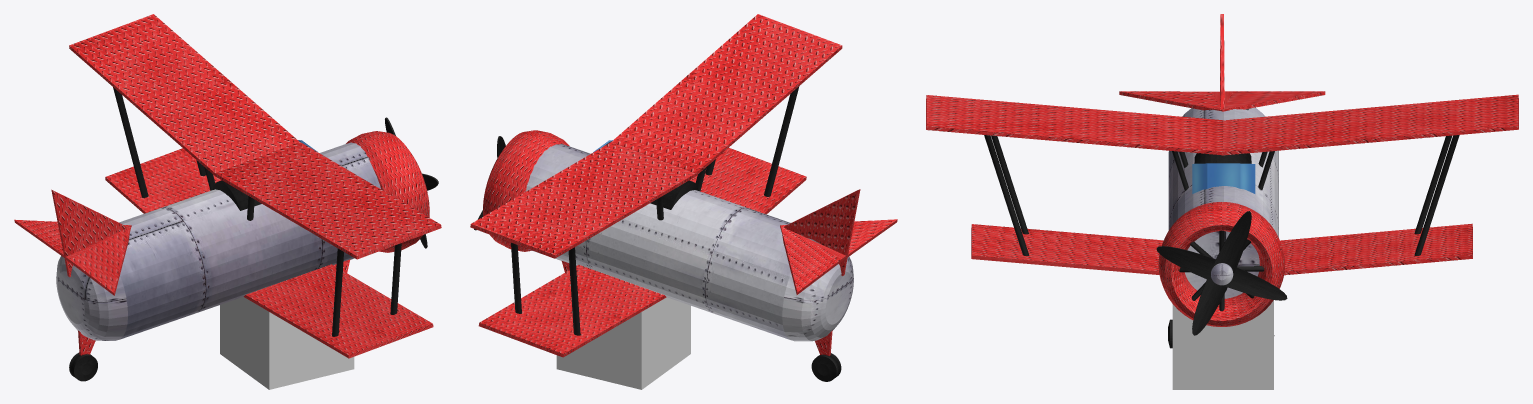
File: Airplane.glb
3 views of the same model, side by side, from view 1: azimuth 30°, elevation 25°; view 2: azimuth 150°, elevation 25°; view 3: azimuth 270°, elevation 25° (orthographic). The views are drawn at different scales.
Parts seen in each view (by area): view 1: Cylinder.006, Cube.007, Cube.004, Cube.006, Cube, Cube.005, Torus, Cube.011, Cube.013, Cube.014, Cylinder.011, Cylinder.013 (+3 smaller); view 2: Cylinder.006, Cube.004, Cube.007, Cube.005, Cube, Cube.006, Torus, Cube.011, Cube.014, Cube.013, Cylinder.013, Cylinder.011 (+3 smaller); view 3: Cube.004, Cube.007, Cube, Torus, Cube.005, Cube.006, Cylinder.006, Cylinder.022, Cylinder.023, Cube.013, Cube.014, Cylinder.012 (+5 smaller).
Boxes of the visible parts, bbox=[...] form: Cylinder.006: bbox=[56, 142, 380, 340]; Cube.007: bbox=[69, 14, 299, 176]; Cube.004: bbox=[215, 142, 441, 259]; Cube.006: bbox=[243, 264, 433, 358]; Cube: bbox=[220, 297, 354, 389]; Cube.005: bbox=[105, 148, 221, 213]; Torus: bbox=[346, 131, 429, 252]; Cube.011: bbox=[51, 189, 127, 277]; Cube.013: bbox=[65, 226, 131, 295]; Cube.014: bbox=[14, 219, 131, 257]; Cylinder.011: bbox=[113, 87, 148, 197]; Cylinder.013: bbox=[332, 248, 343, 336]; Cylinder.006: bbox=[526, 144, 853, 341]; Cube.004: bbox=[611, 14, 842, 175]; Cube.007: bbox=[470, 142, 696, 258]; Cube.005: bbox=[478, 265, 666, 357]; Cube: bbox=[556, 297, 690, 389]; Cube.006: bbox=[689, 148, 806, 214]; Torus: bbox=[483, 130, 569, 251]; Cube.011: bbox=[783, 189, 860, 275]; Cube.014: bbox=[780, 225, 845, 294]; Cube.013: bbox=[781, 219, 897, 257]; Cylinder.013: bbox=[764, 86, 799, 196]; Cylinder.011: bbox=[568, 247, 580, 335]; Cube.004: bbox=[926, 95, 1222, 155]; Cube.007: bbox=[1222, 94, 1518, 155]; Cube: bbox=[1172, 300, 1273, 389]; Torus: bbox=[1158, 202, 1285, 326]; Cube.005: bbox=[1280, 223, 1472, 275]; Cube.006: bbox=[971, 224, 1163, 274]; Cylinder.006: bbox=[1168, 107, 1278, 298]; Cylinder.022: bbox=[1156, 246, 1287, 300]; Cylinder.023: bbox=[1192, 211, 1251, 335]; Cube.013: bbox=[1119, 91, 1222, 111]; Cube.014: bbox=[1222, 91, 1325, 111]; Cylinder.012: bbox=[1414, 135, 1459, 255].
Bounding box in the file's own units: 8.47 × 5.39 × 11.69.
Materials: 13 (12 with a texture image).
